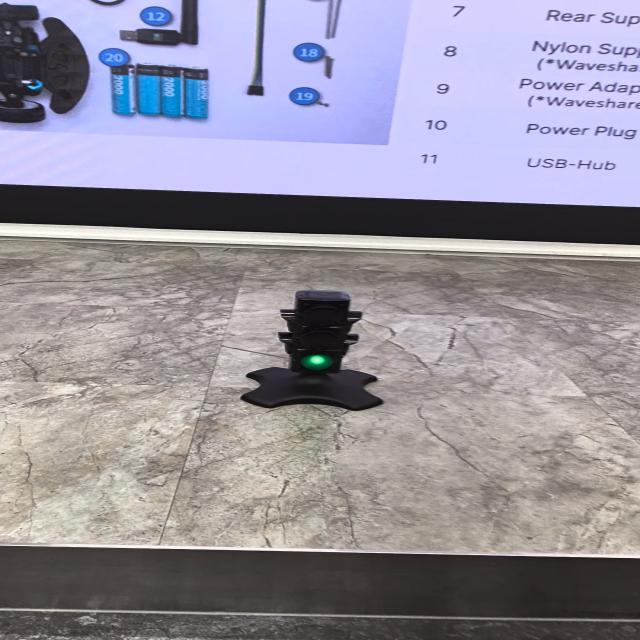green_light: (302, 355, 333, 370)
